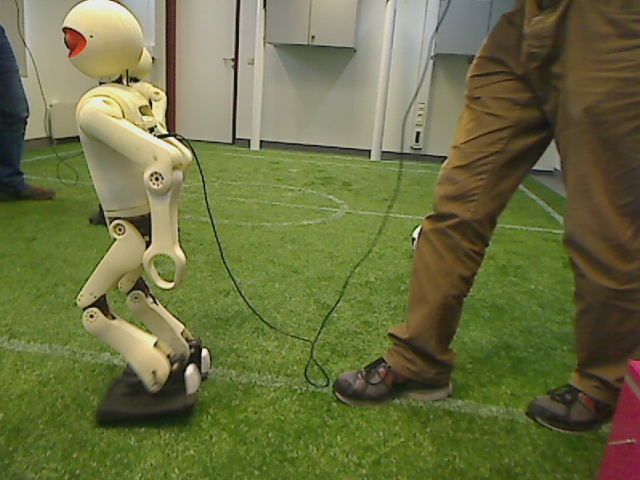robot: (59, 2, 219, 427)
